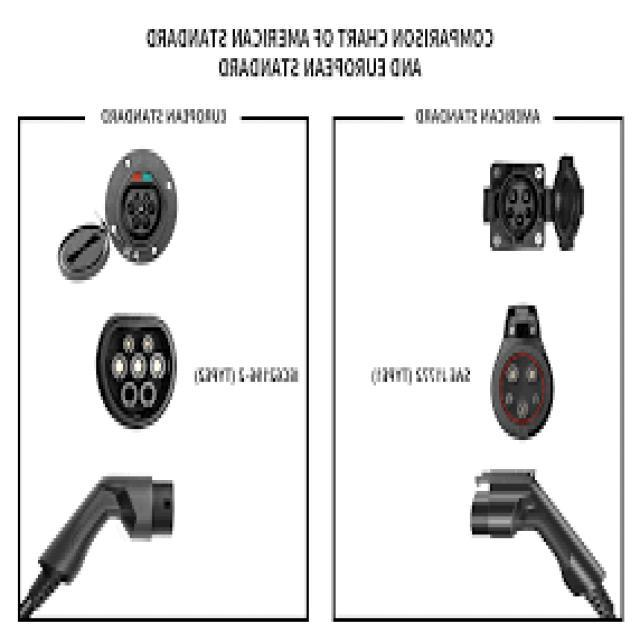Type 2: (80, 298, 194, 440)
